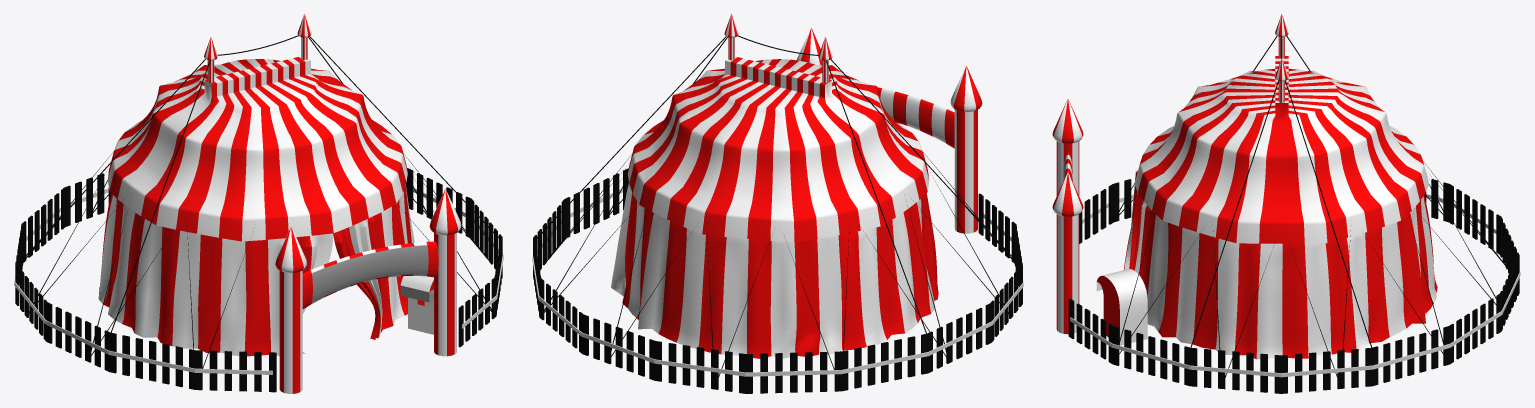
Rendered from dazhangpeng.FBX.
3 renders of one model, left to right at view 1: azimuth 30°, elevation 25°; view 2: azimuth 150°, elevation 25°; view 3: azimuth 270°, elevation 25°, orthographic. The views are drawn at different scales.
Visible parts, largest first — view 1: Shape02, 3D学院 模型无限, sign, cord; view 2: Shape02, 3D学院 模型无限, cord; view 3: Shape02, 3D学院 模型无限, cord.
Part boxes in pixels (box(x1,y1,x2,y2)): Shape02: box(98, 14, 461, 393); 3D学院 模型无限: box(14, 168, 503, 392); sign: box(312, 245, 428, 302); cord: box(17, 35, 499, 368); Shape02: box(611, 14, 982, 358); 3D学院 模型无限: box(532, 168, 1023, 393); cord: box(536, 35, 1020, 377); Shape02: box(1052, 14, 1437, 359); 3D学院 模型无限: box(1068, 179, 1520, 393); cord: box(1113, 36, 1505, 377).
Size of the model in its own units: 2232 by 1319 by 2180.
